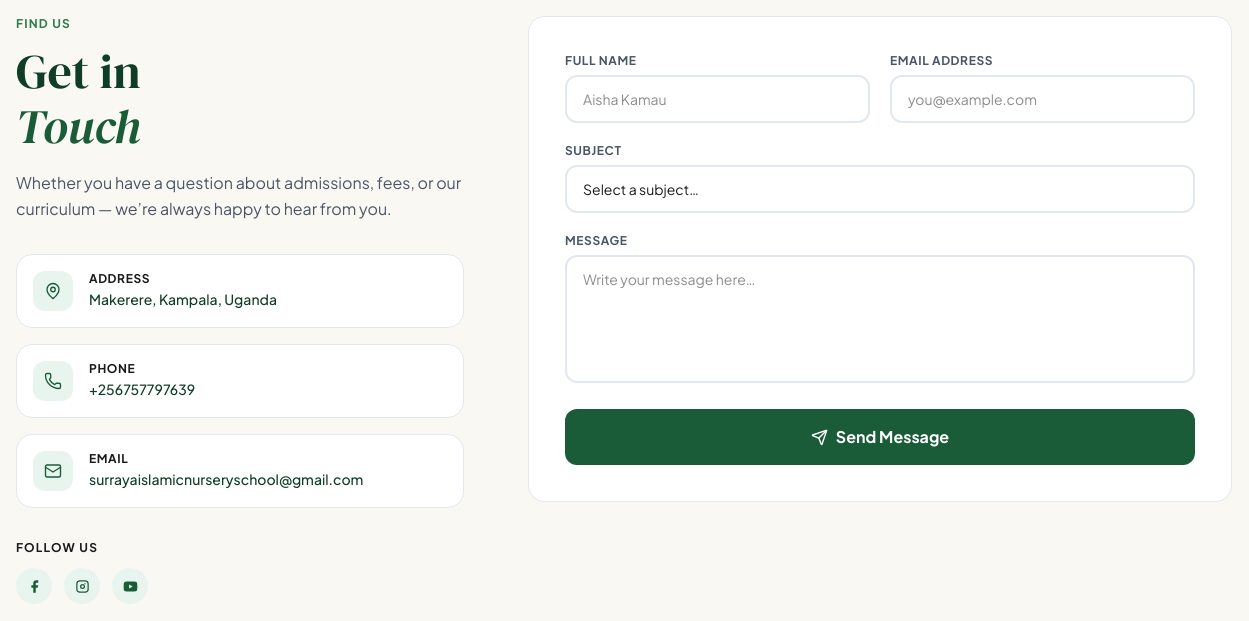
Scenario: ContactForm › shows validation errors when submitting empty form
Click the button "Send Message".
click(880, 437)  # box [565,409,1195,465]
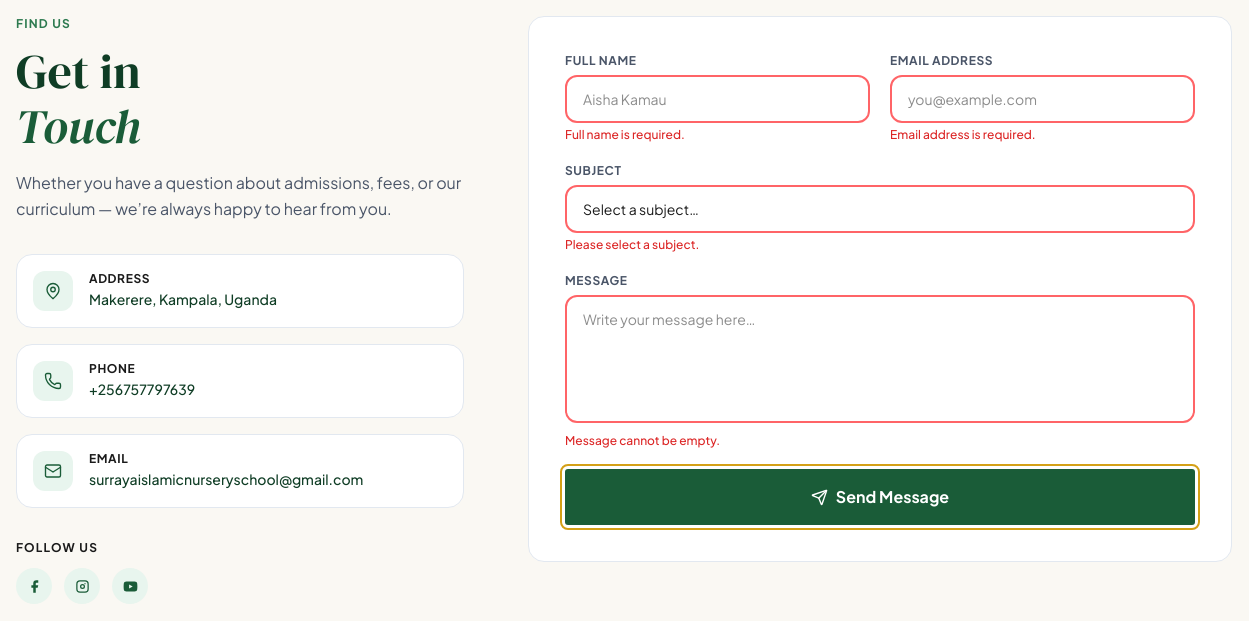
Now the text "Full name is required." is shown, box [565,127,685,142]
Now the text "Email address is required." is shown, box [890,127,1036,142]
Now the text "Please select a subject." is shown, box [565,237,699,252]
